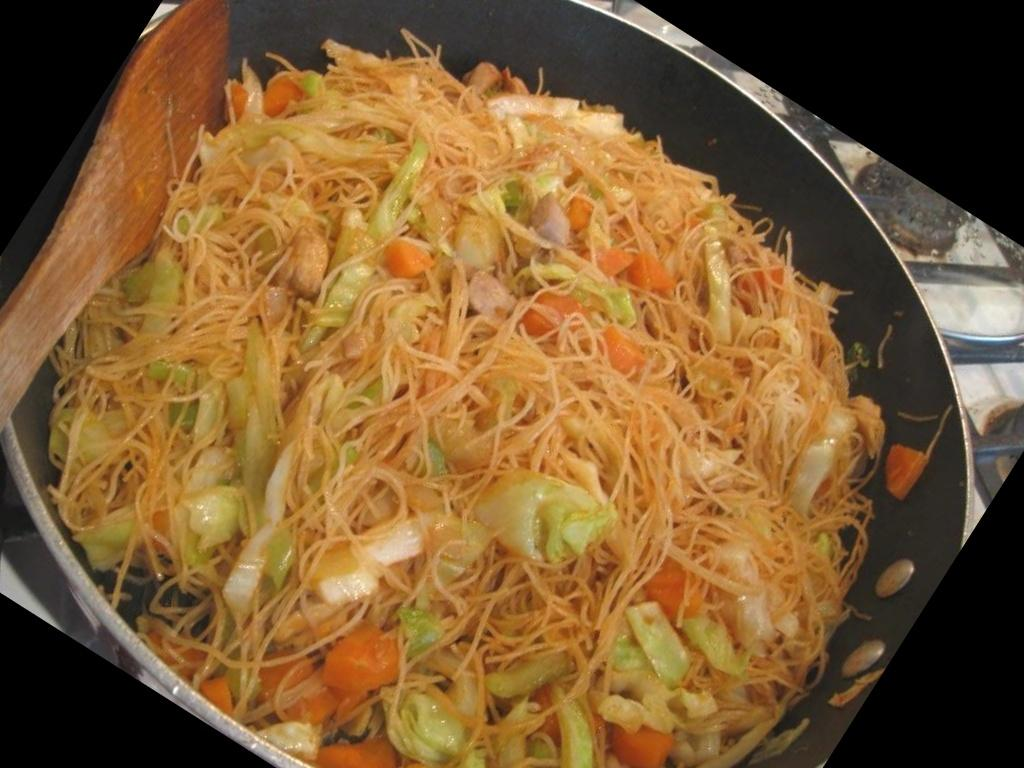pancit bihon: (64, 52, 863, 767)
